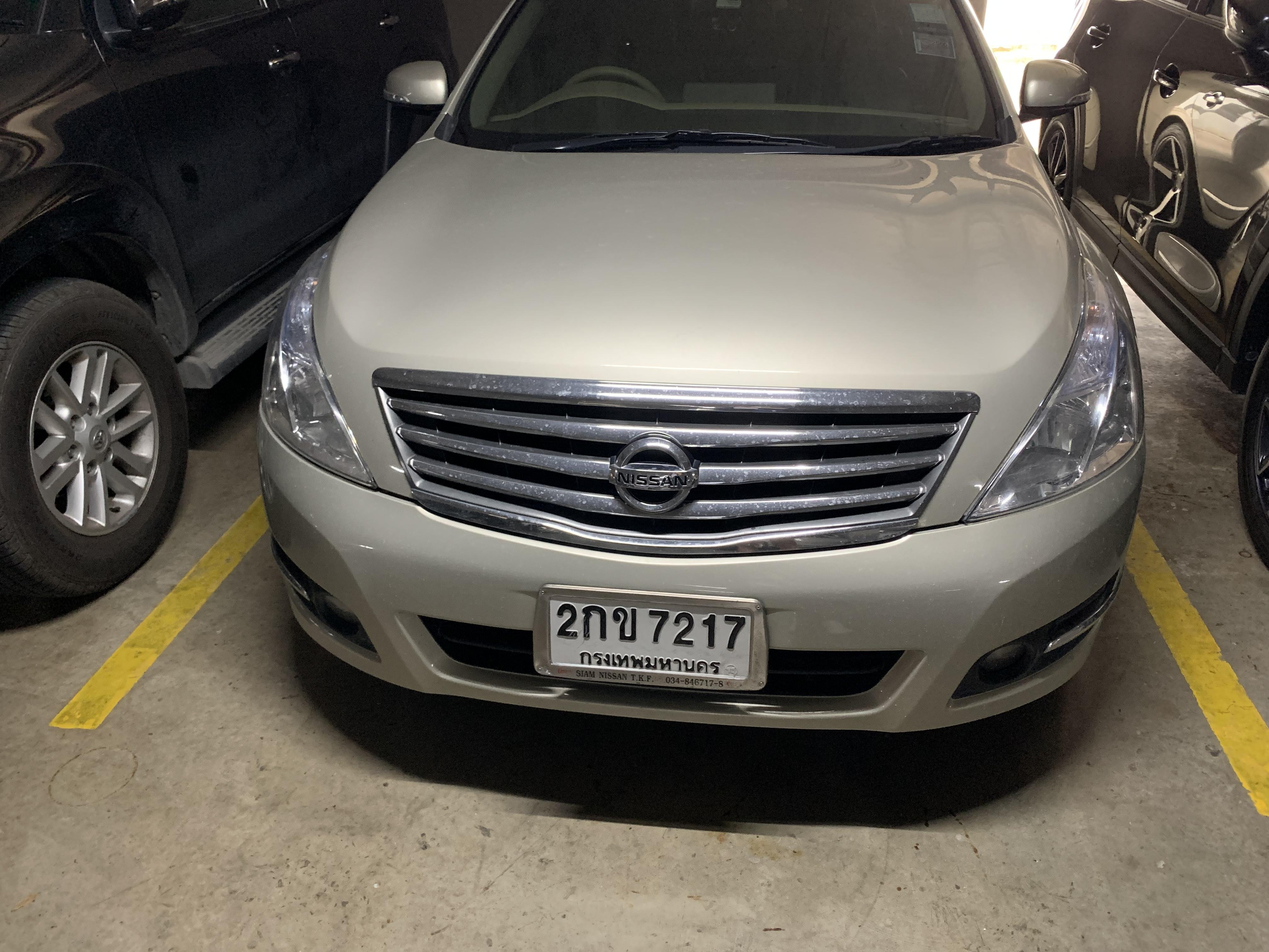license-plate: (528, 578, 771, 698)
